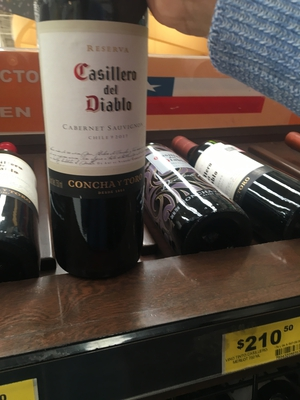casillero del diablo cabernet sauvignon: (31, 3, 150, 290)
